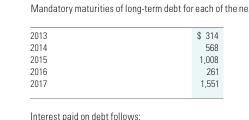table: (29, 29, 218, 88)
table column: (121, 29, 218, 88), (29, 29, 121, 88)
table row: (29, 29, 218, 41), (29, 41, 218, 53), (29, 53, 218, 65), (29, 65, 218, 77), (29, 77, 218, 88)
